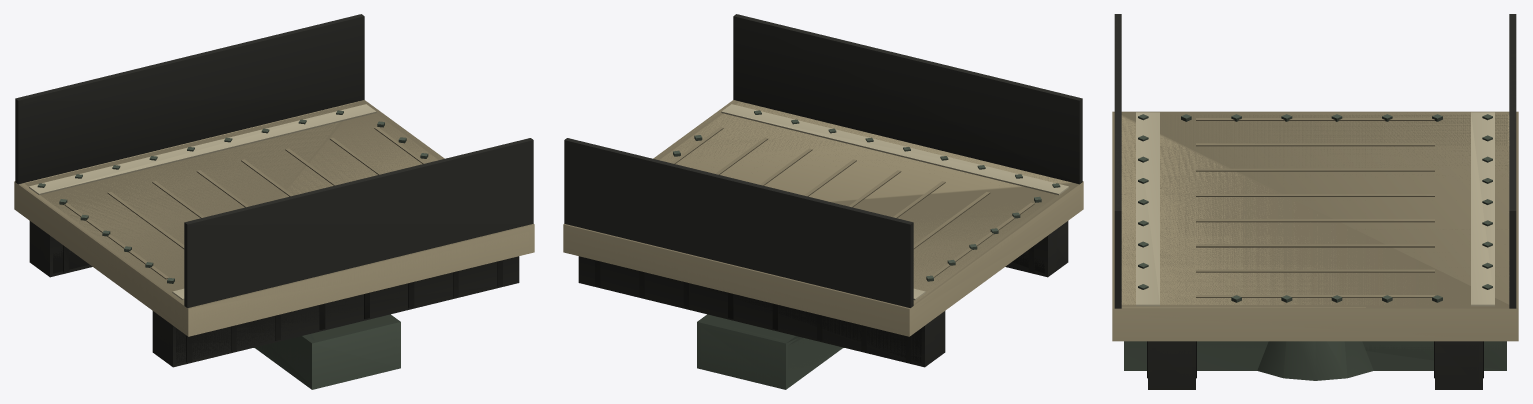
File: neutral_bridge_segment.glb
3 views of the same model, side by side, from view 1: azimuth 30°, elevation 25°; view 2: azimuth 150°, elevation 25°; view 3: azimuth 270°, elevation 25° (orthographic). The views are drawn at different scales.
Parts seen in each view (by area): view 1: body (×3); view 2: body (×3); view 3: body (×3).
Boxes of the visible parts, x1,y1,x2,y2 form: body (×3): (14,14,534,389); body (×3): (563,14,1083,389); body (×3): (1112,14,1518,389).
Size of the model in its own units: 3.9 by 2.15 by 3.4.
